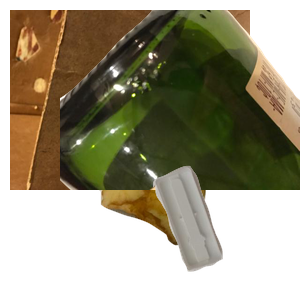cardboard: (10, 10, 250, 190)
glass: (60, 10, 300, 190)
plastic: (150, 163, 300, 300)
trash: (96, 145, 295, 300)
